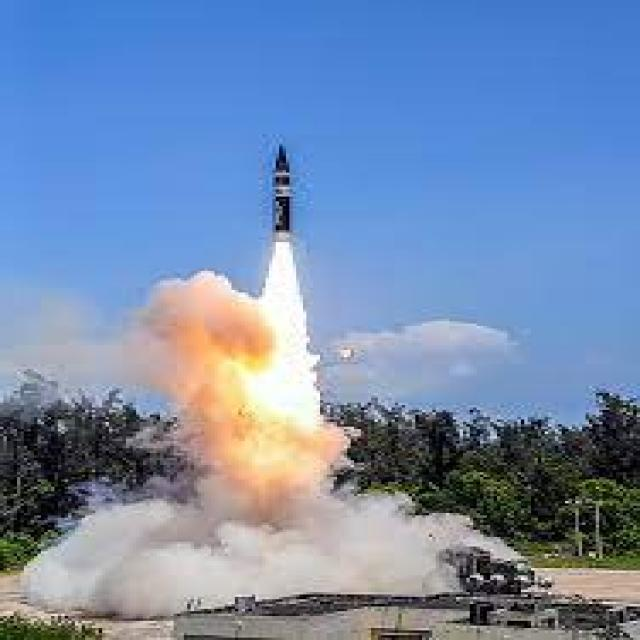rocket: (249, 140, 317, 428)
